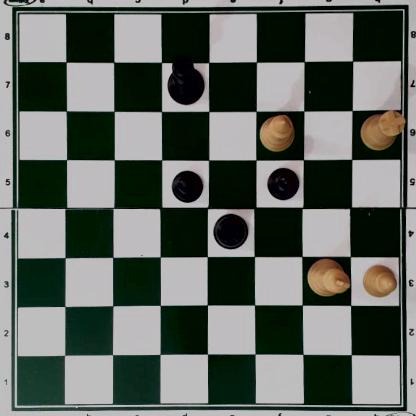black-king: (166, 54, 205, 106)
black-pawn: (170, 169, 204, 203), (267, 165, 299, 201)
black-rook: (214, 214, 248, 250)
white-bishop: (261, 113, 294, 152)
white-king: (305, 259, 350, 297)
white-pawn: (361, 264, 397, 297)
white-rook: (360, 109, 403, 151)
